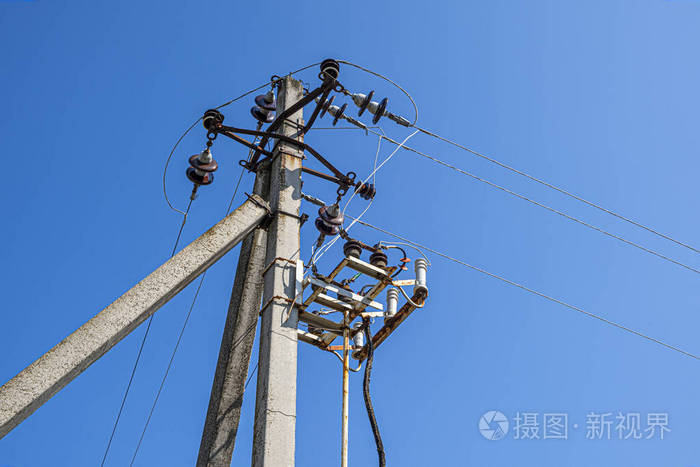insulator: (352, 89, 390, 123), (312, 205, 346, 237), (319, 93, 350, 127), (183, 154, 216, 185), (251, 92, 279, 123)
